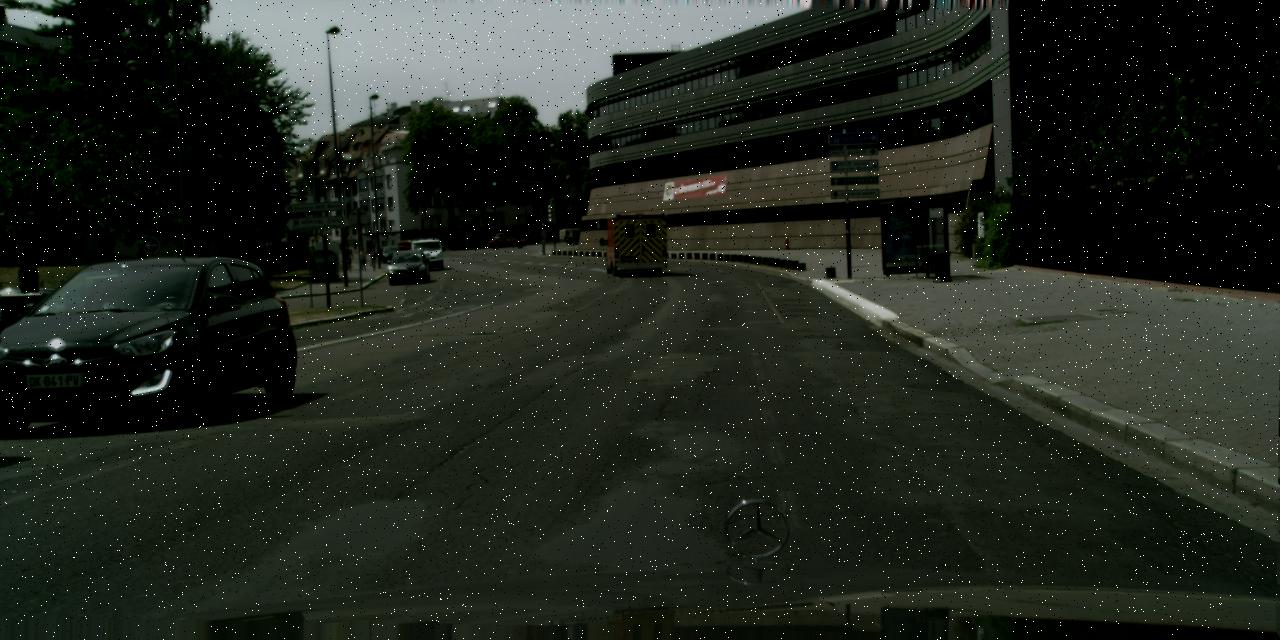ped: (342, 244, 352, 270), (357, 247, 367, 271), (368, 248, 378, 270), (341, 247, 350, 270)
